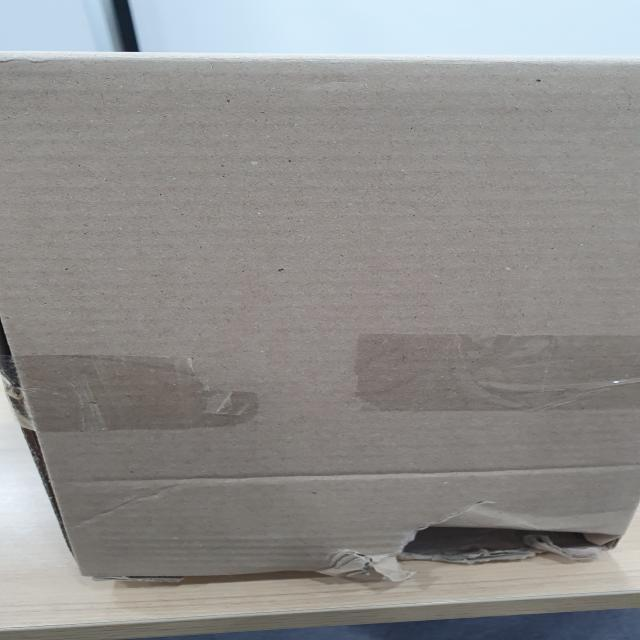hole: (348, 514, 626, 568)
